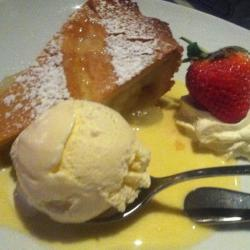apple_pie: (1, 6, 180, 134)
icecream: (10, 99, 157, 226)
